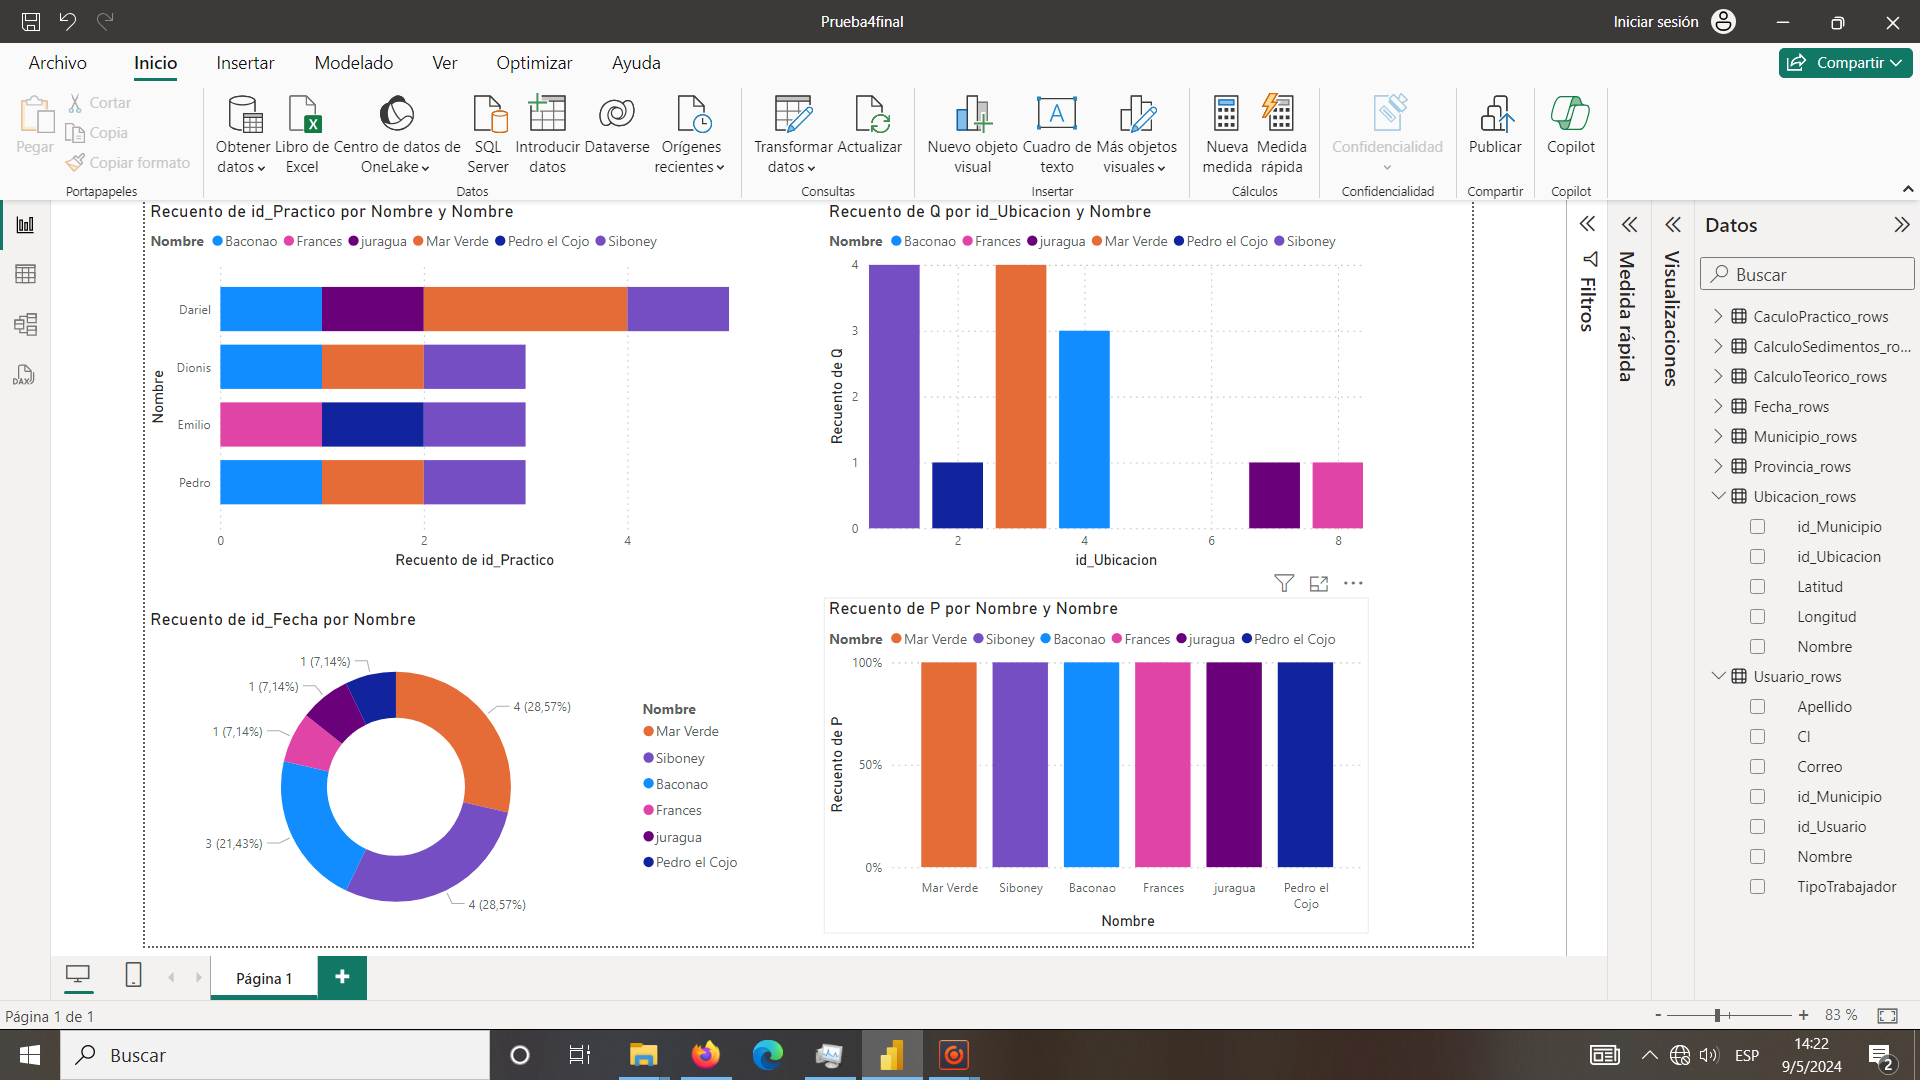

Layout of this report page (visuals, bound fields, positions):
{"tool":"powerbi","page":{"name":"Página 1","canvas":[1280,720],"ordinal":0},"visuals":[{"type":"donutChart","fields":{"Category":["Ubicacion_rows.Nombre"],"Y":["CountNonNull(CaculoPractico_rows.id_Fecha)"]},"box":[0,394.8,585.8,325],"z":0},{"type":"hundredPercentStackedColumnChart","fields":{"Category":["Ubicacion_rows.Nombre"],"Series":["Ubicacion_rows.Nombre"],"Y":["CountNonNull(CaculoPractico_rows.P)"]},"box":[655.7,383.4,526,325],"z":1000},{"type":"barChart","fields":{"Category":["Usuario_rows.Nombre"],"Y":["CountNonNull(CalculoSedimentos_rows.id_Practico)"],"Series":["Ubicacion_rows.Nombre"]},"box":[0,0,573,360.6],"z":2000},{"type":"lineStackedColumnComboChart","fields":{"Category":["Ubicacion_rows.id_Ubicacion"],"Y":["CountNonNull(CalculoTeorico_rows.Q)"],"Series":["Ubicacion_rows.Nombre"]},"box":[655.7,0,526,360.6],"z":3000}]}

Visuals, with their boxes on the page's 1280x720 design canvas (x1, y1, x2, y2). These are canvas units, not pixel positions in the 1920x1080 screenshot, which may show the page scaled, cropped or inside an application window:
donutChart - Ubicacion_rows.Nombre x CountNonNull(CaculoPractico_rows.id_Fecha): locate(0, 395, 586, 720)
hundredPercentStackedColumnChart - Ubicacion_rows.Nombre x Ubicacion_rows.Nombre: locate(656, 383, 1182, 708)
barChart - Usuario_rows.Nombre x CountNonNull(CalculoSedimentos_rows.id_Practico): locate(0, 0, 573, 361)
lineStackedColumnComboChart - Ubicacion_rows.id_Ubicacion x CountNonNull(CalculoTeorico_rows.Q): locate(656, 0, 1182, 361)
